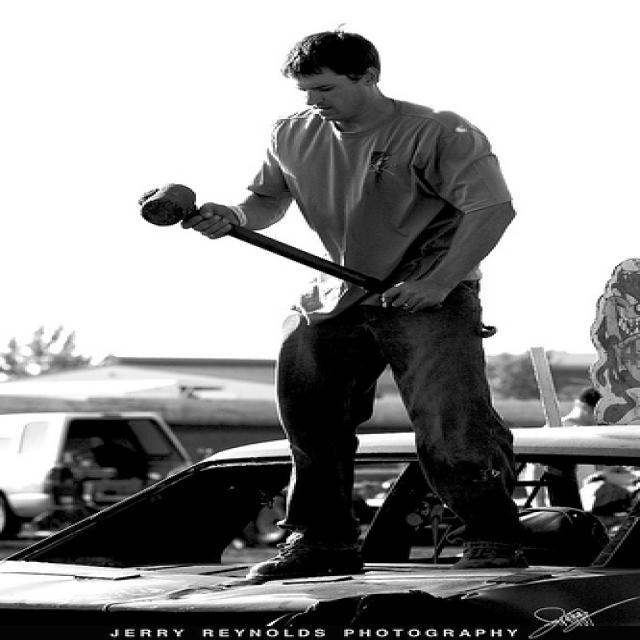hammer: (129, 180, 482, 328)
